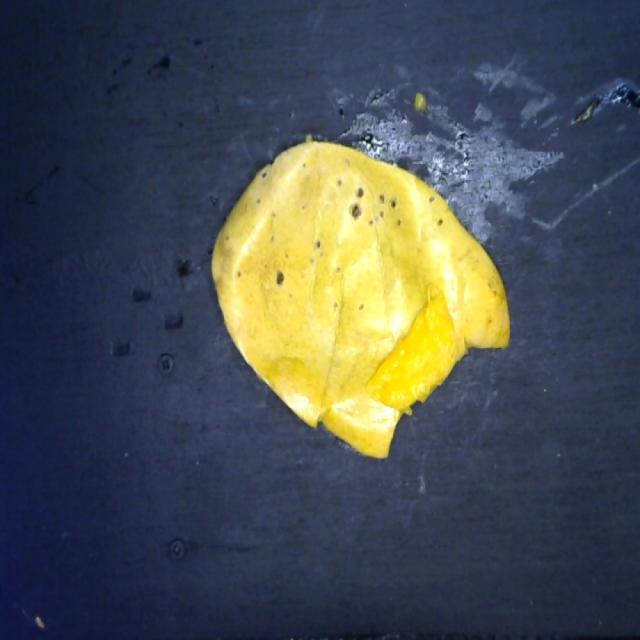biodegradable: (209, 137, 516, 474)
